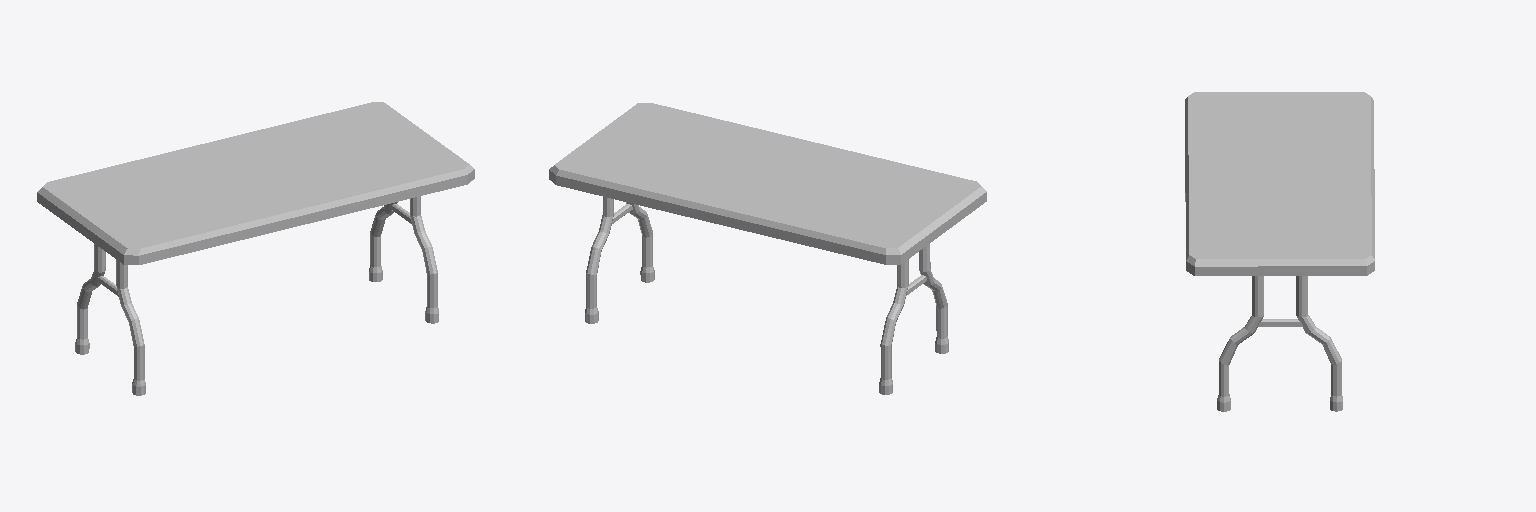
Rendered from Tafel.obj.
The picture shows the model from 3 angles: view 1: azimuth 30°, elevation 25°; view 2: azimuth 150°, elevation 25°; view 3: azimuth 270°, elevation 25°; orthographic projection.
Visible parts, largest first — view 1: Tafel; view 2: Tafel; view 3: Tafel.
Boxes of the visible parts, <box> form: Tafel: <box>37,102,474,395</box>; Tafel: <box>549,103,986,394</box>; Tafel: <box>1185,92,1374,411</box>.
Bounding box in the file's own units: 219 × 95.59 × 103.